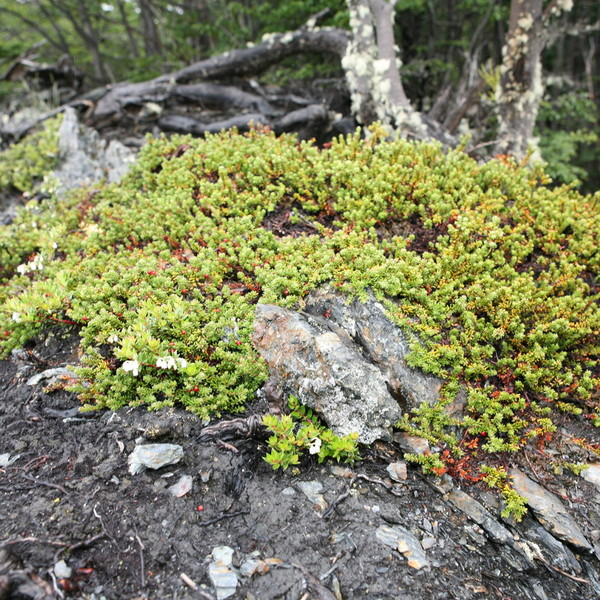obstacle: (107, 127, 544, 469)
